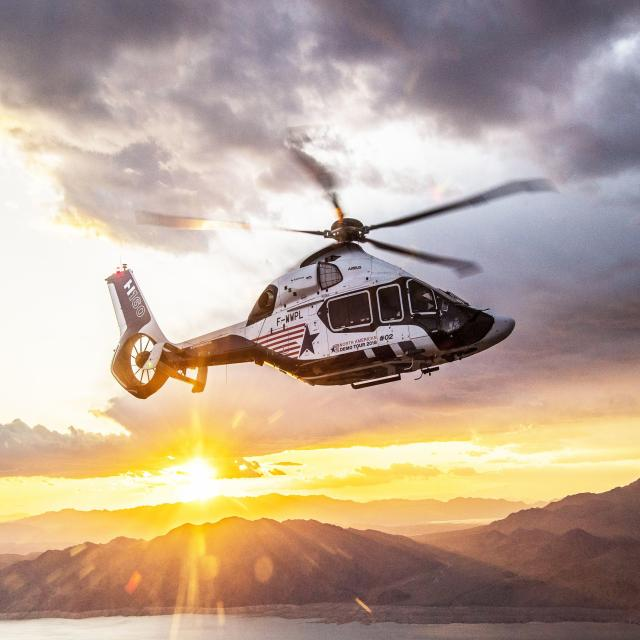helicopter: (92, 140, 552, 403)
